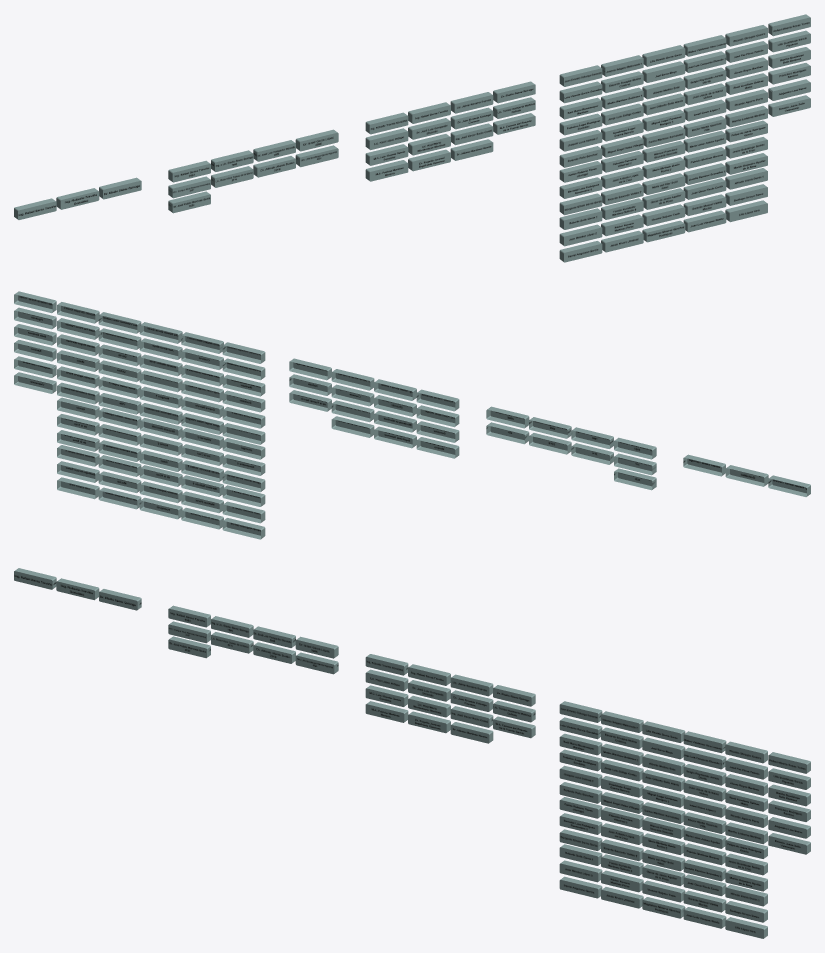
The model's file is FACU-PB_Placas.glb.
3 renders of one model, top to bottom at view 1: azimuth 30°, elevation 25°; view 2: azimuth 150°, elevation 25°; view 3: azimuth 330°, elevation 25°, orthographic.
Parts seen in each view (by area): view 1: Reconocimientos; view 2: Reconocimientos; view 3: Reconocimientos.
Part boxes in pixels (bbox=[...]): Reconocimientos: bbox=[14, 14, 810, 262]; Reconocimientos: bbox=[14, 291, 810, 539]; Reconocimientos: bbox=[14, 568, 810, 938].
Size of the model in its own units: 0.0767 by 0.0171 by 0.000692.
1 material, 1 textured.
